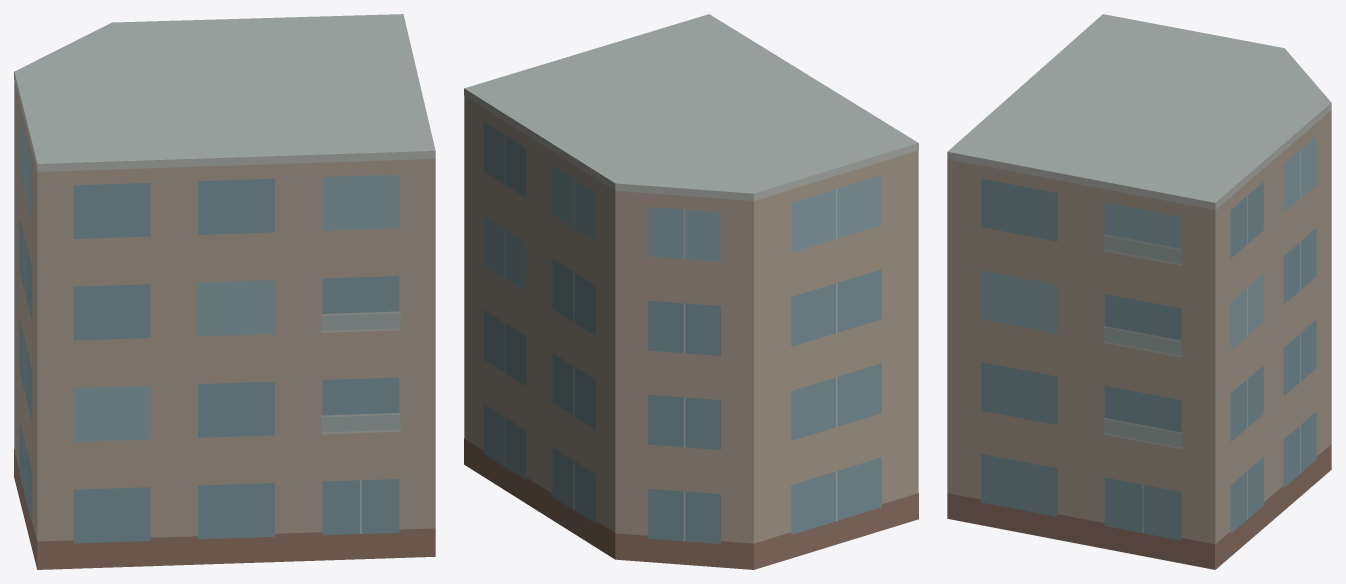
Rendered from survey-upis-32946610.glb.
3 renders of one model, left to right at view 1: azimuth 30°, elevation 25°; view 2: azimuth 150°, elevation 25°; view 3: azimuth 270°, elevation 25°, orthographic. The views are drawn at different scales.
Parts seen in each view (by area): view 1: survey-upis-32946610.tmp; view 2: survey-upis-32946610.tmp; view 3: survey-upis-32946610.tmp.
Boxes of the visible parts, bbox=[...] form: survey-upis-32946610.tmp: bbox=[14, 14, 435, 569]; survey-upis-32946610.tmp: bbox=[464, 14, 918, 569]; survey-upis-32946610.tmp: bbox=[947, 14, 1331, 569].
Size of the model in its own units: 13.74 by 12.43 by 11.81.
